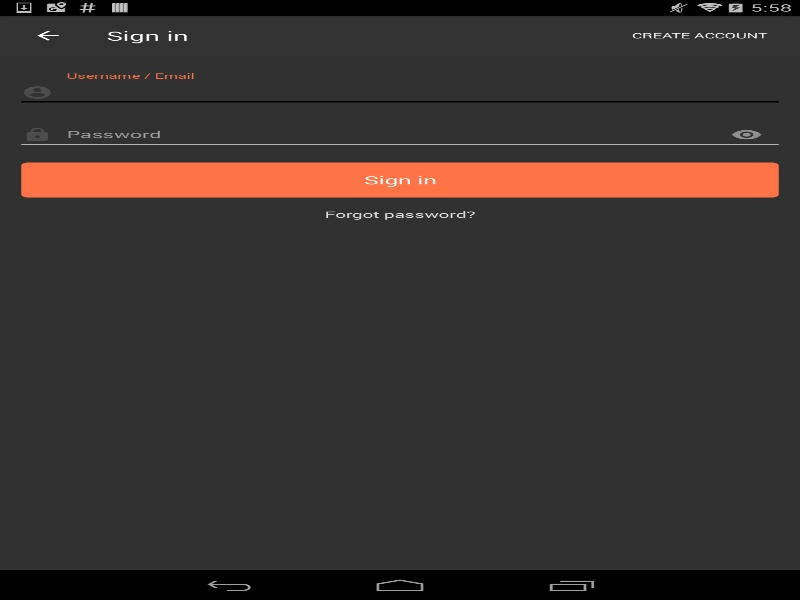Button: (21, 162, 778, 197), (21, 201, 778, 226), (632, 15, 789, 55), (10, 15, 85, 55), (714, 120, 778, 150)
Input: (21, 120, 778, 150), (21, 78, 778, 106)
